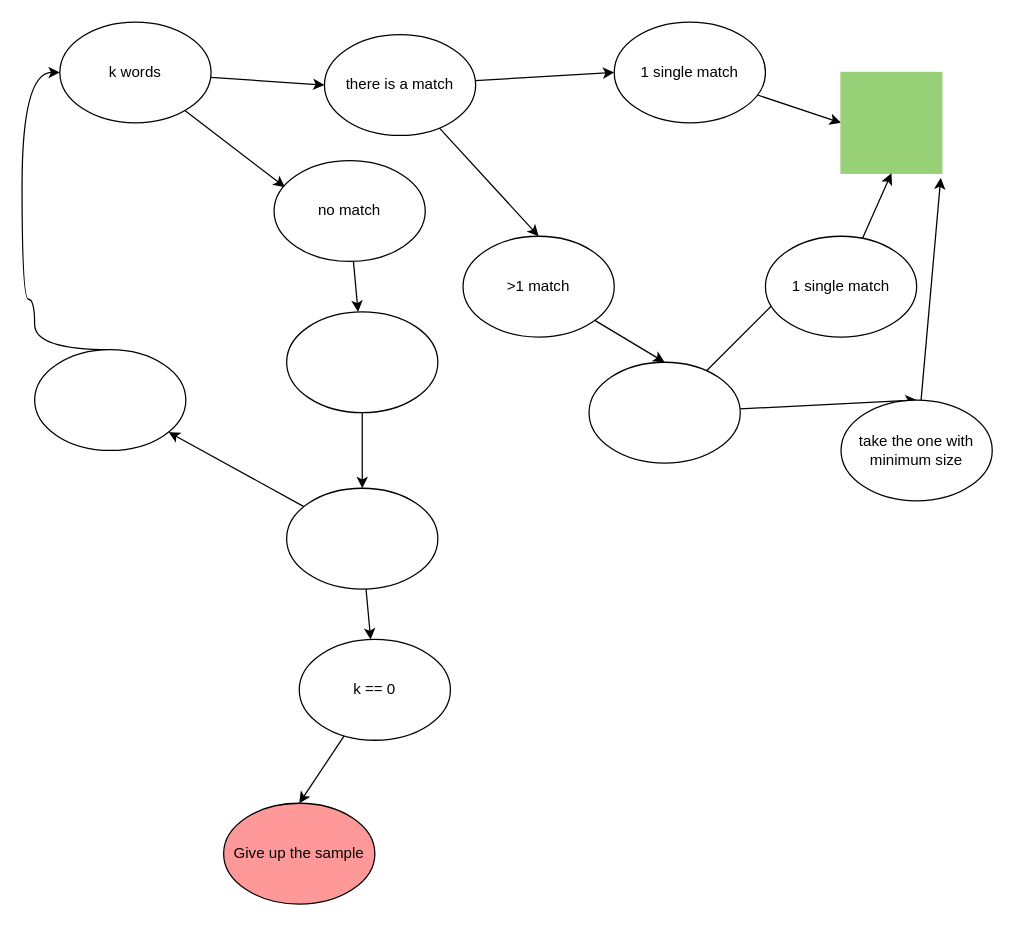
The diagram is 1014 pixels wide and 926 high, and some of its shapes have lost their labels. The shapes that lost their labels are listed below. From the top down, each one's centre as x and y in pixels, then its label:
At [891,122]: "return".
At [361,362]: "erase least important word".
At [109,399]: "(k - 1) != 0".
At [664,412]: "Take the match which has the min number of words".
At [361,538]: "(k - 1) words".
